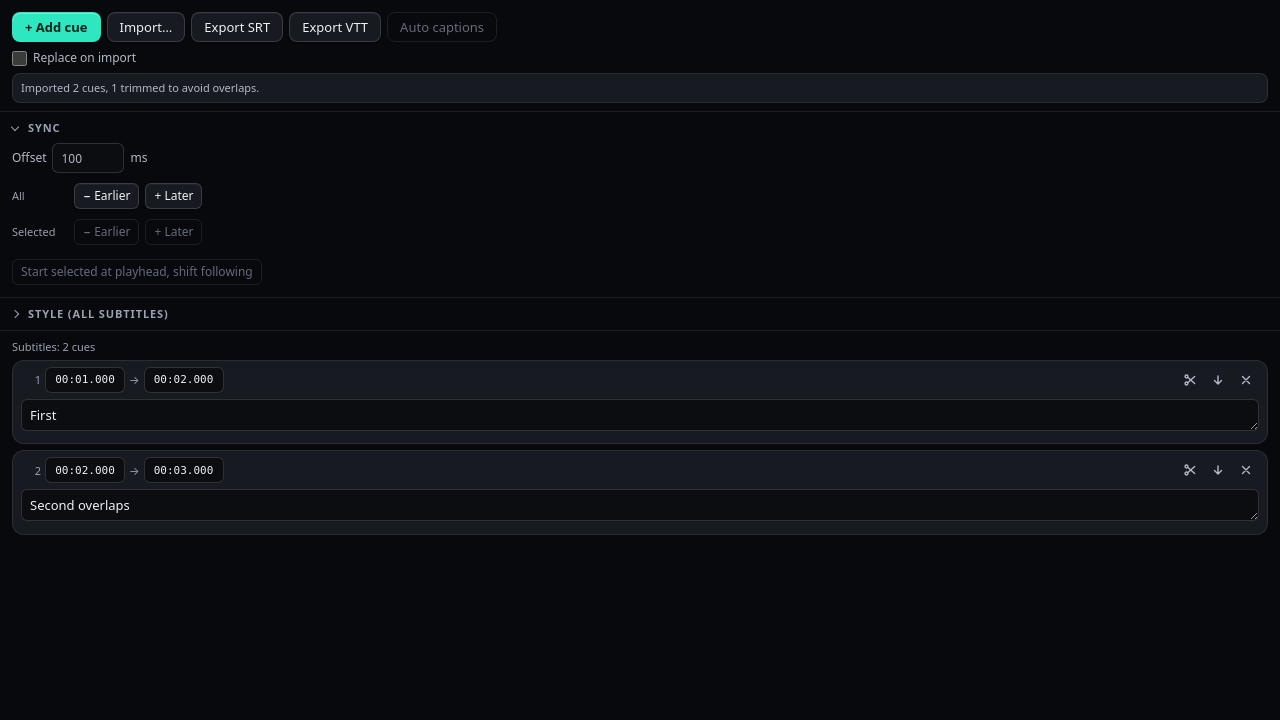
SubtitlesPanel › imports SRT (reporting trims), edits a cue, shifts all, highlights the current cue
Earlier steps of the test are not shown.
Later steps or results of the test are not shown.
Expected: the message shows "Imported", [21,80,259,95]
Expected: the message reads "Imported 2 cues, 1 trimmed to avoid overlaps.", [21,80,259,95]
Replace the text in the 1st text box named "Cue text" with "First edited" at (640, 415), box [21,399,1259,431]
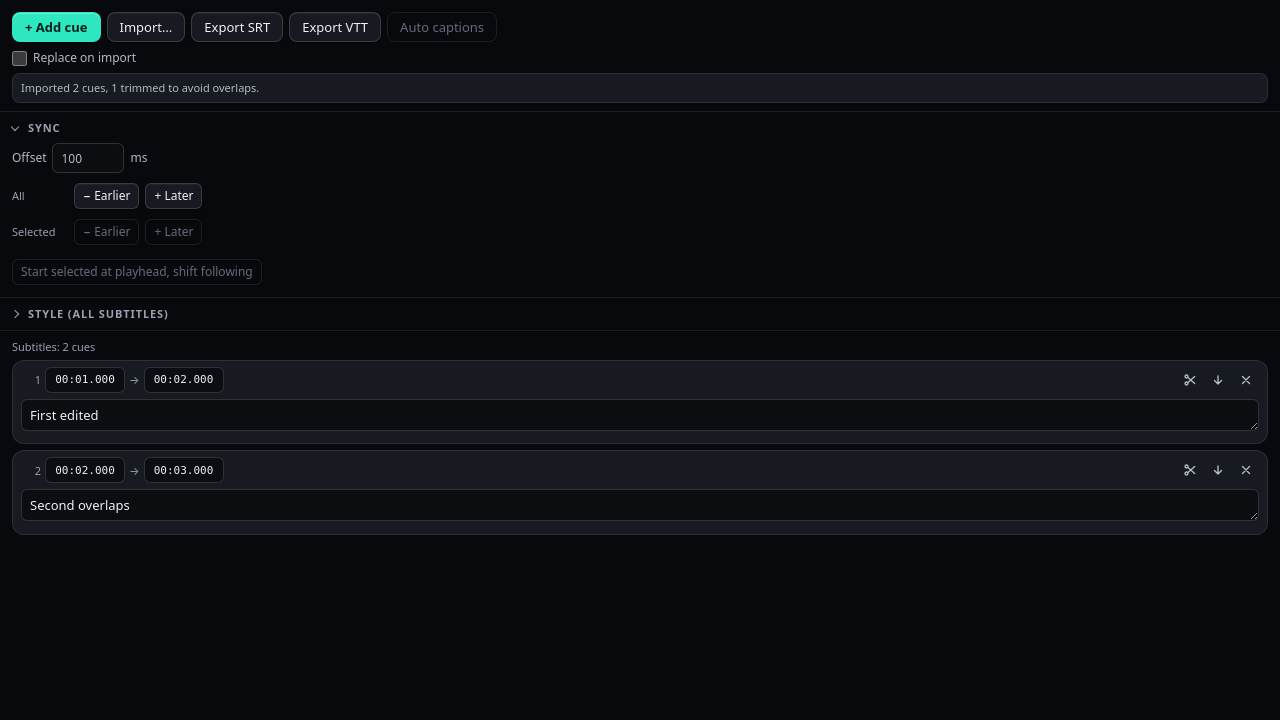
Replace the text in the 1st text box named "Cue text" with "First edited!" at (640, 415), box [21,399,1259,431]
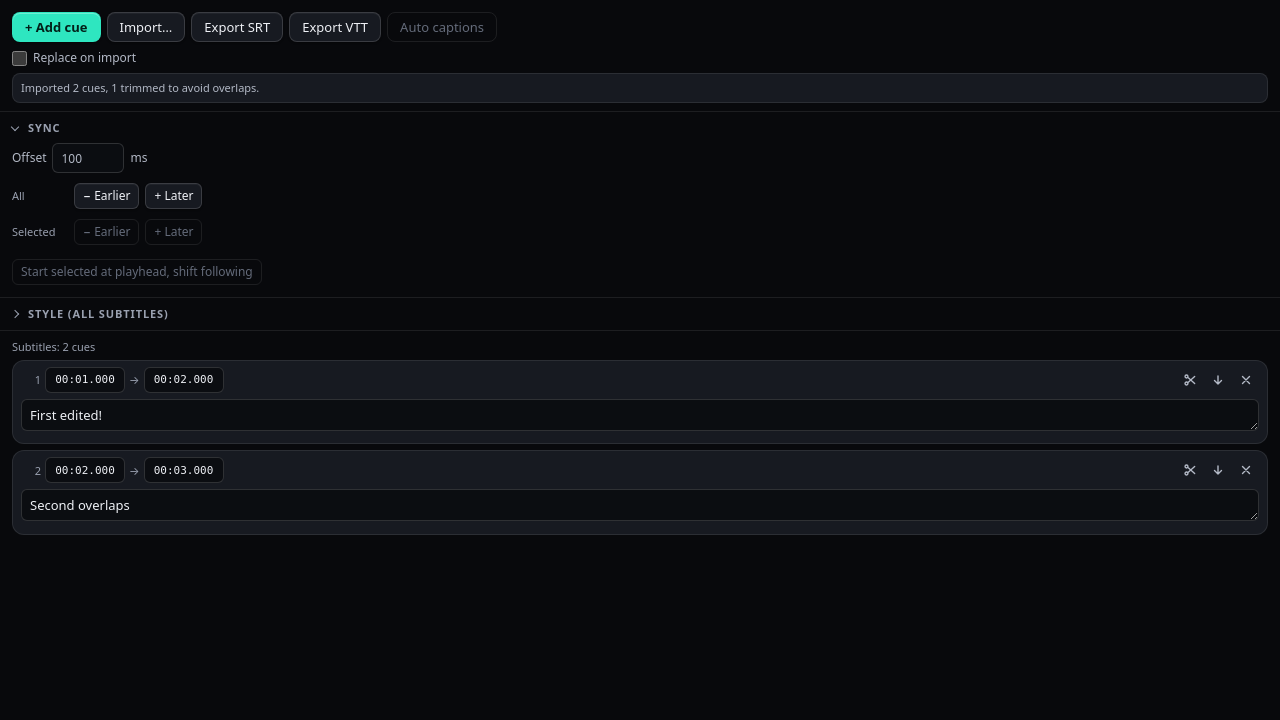
Expected: the 2nd field named "Start" holds "00:02.000", [45,457,125,483]
Click the 1st button "+ Later" at (174, 196), box [145,183,202,209]
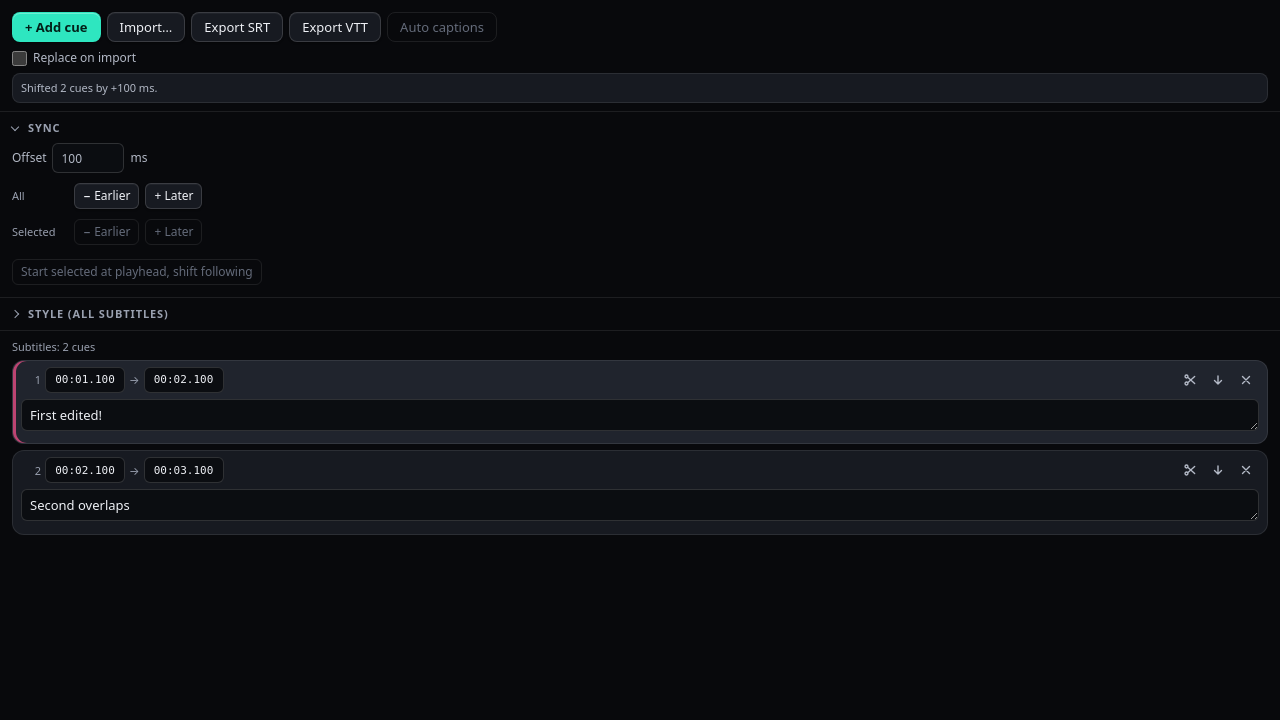
Result: the 1st field named "Start" holds "00:01.100" at [45,367,125,393]
